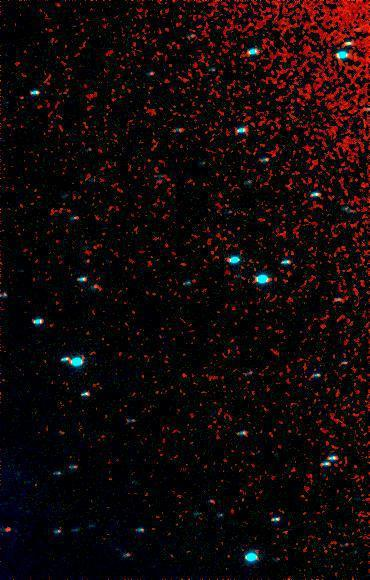star: (0, 515, 22, 545)
